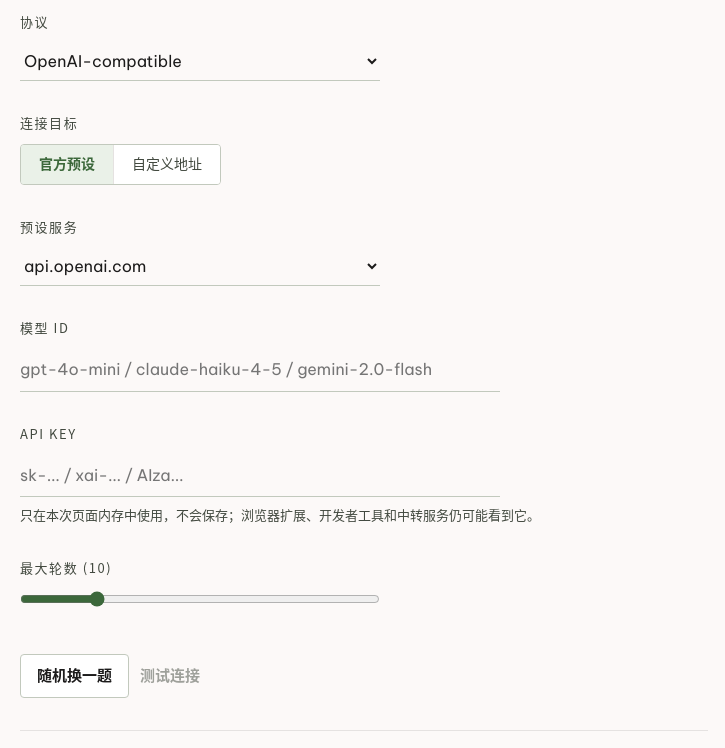
it: AI 试炼场页面 · 注入非空题池 › 未勾选同意时测试连接不发出请求
(page scrolled)
In the field labelled "模型 ID": (260, 370) [20,349,500,392], type "gpt-4o-mini"
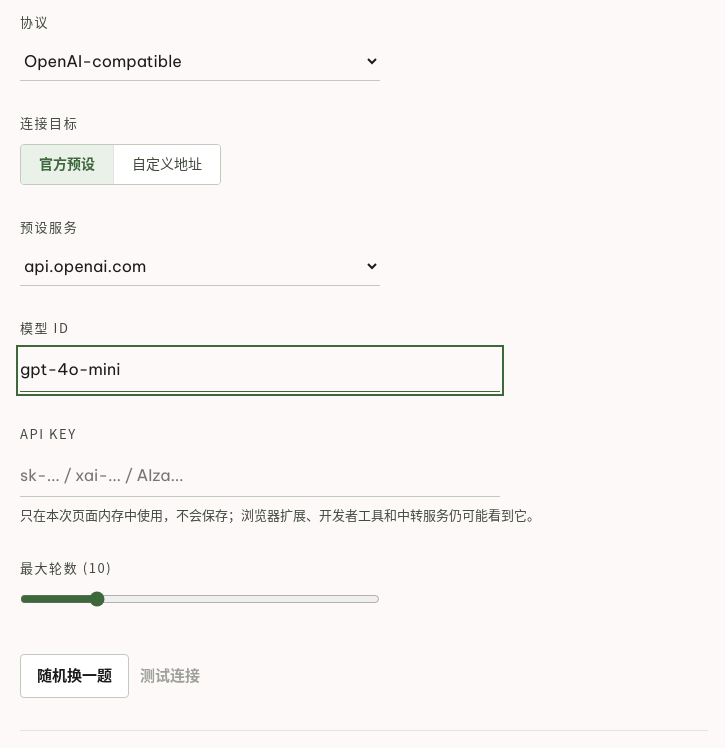
In the password field labelled "API Key": (260, 476) [20,454,500,497], type "sk-page-sentinel-must-never-persist"
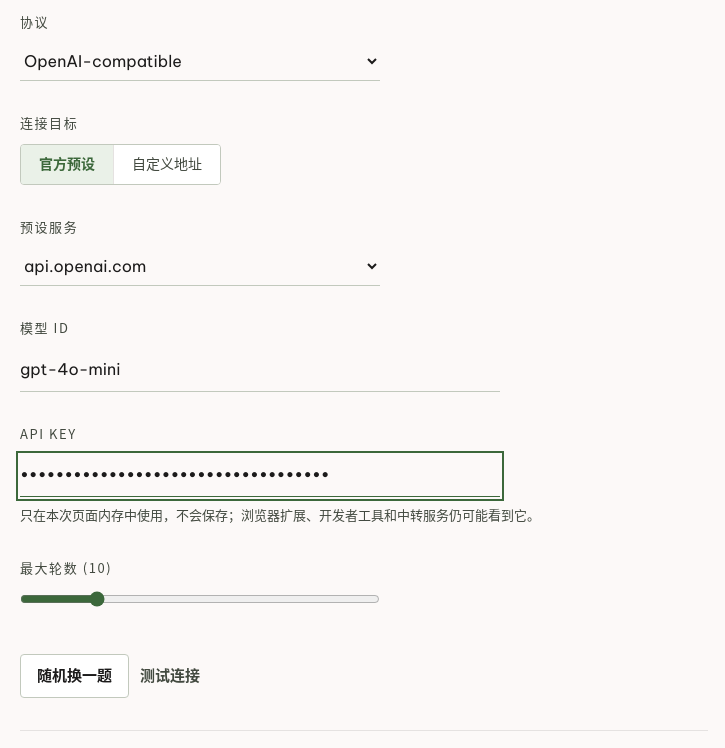
Click the button "测试连接": (170, 676) [129,654,211,698]
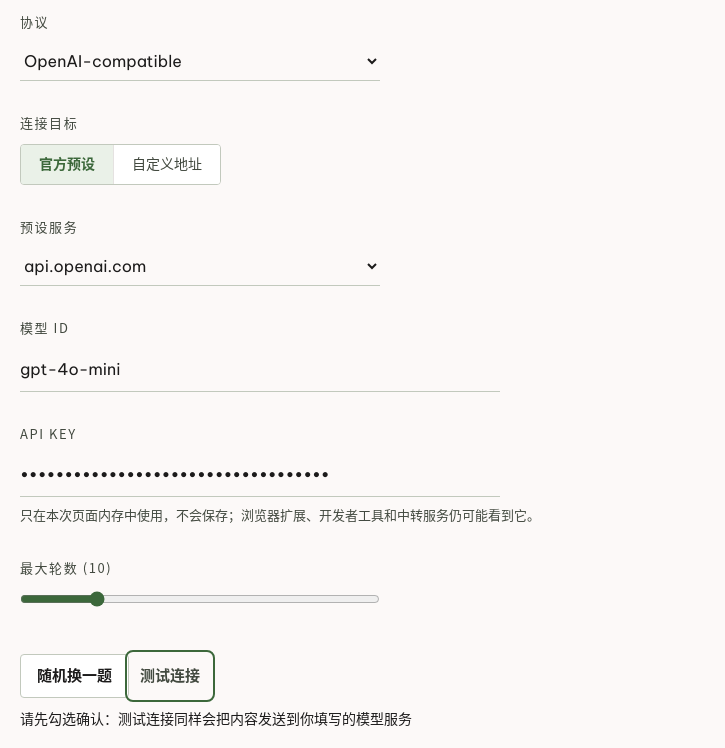
Result: the text "请先勾选确认：测试连接同样会把内容发送到你填写的模型服务" is shown at [20,710,412,728]
